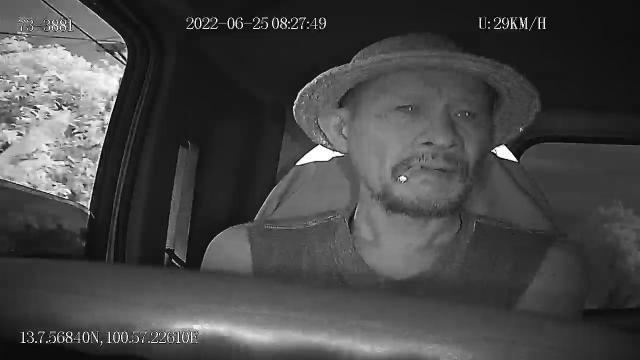SafeDriving: (388, 92, 426, 121), (446, 100, 481, 124)
Smoking: (396, 160, 424, 186)
